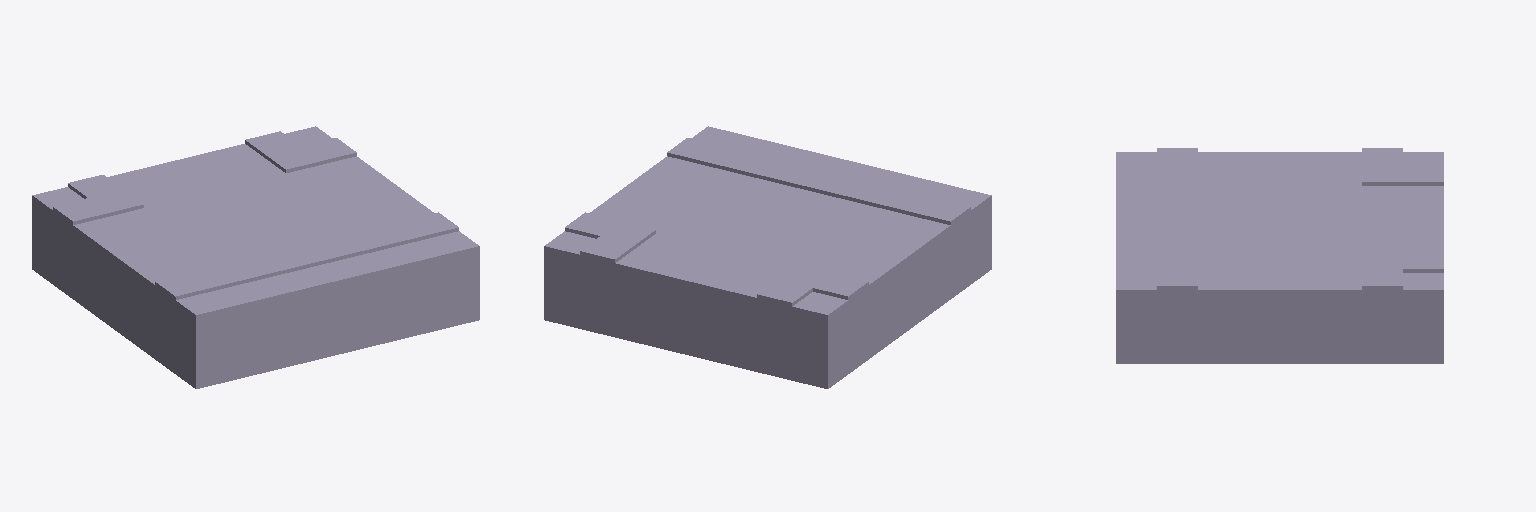
Rendered from patht.obj.
3 renders of one model, left to right at view 1: azimuth 30°, elevation 25°; view 2: azimuth 150°, elevation 25°; view 3: azimuth 270°, elevation 25°, orthographic.
Visible parts, largest first — view 1: road-tjunction-low_Cube.007; view 2: road-tjunction-low_Cube.007; view 3: road-tjunction-low_Cube.007.
Boxes of the visible parts, <box> form: road-tjunction-low_Cube.007: <box>32,126,479,388</box>; road-tjunction-low_Cube.007: <box>544,126,991,388</box>; road-tjunction-low_Cube.007: <box>1116,148,1443,363</box>.
Bounding box in the file's own units: 8 × 2.1 × 8.